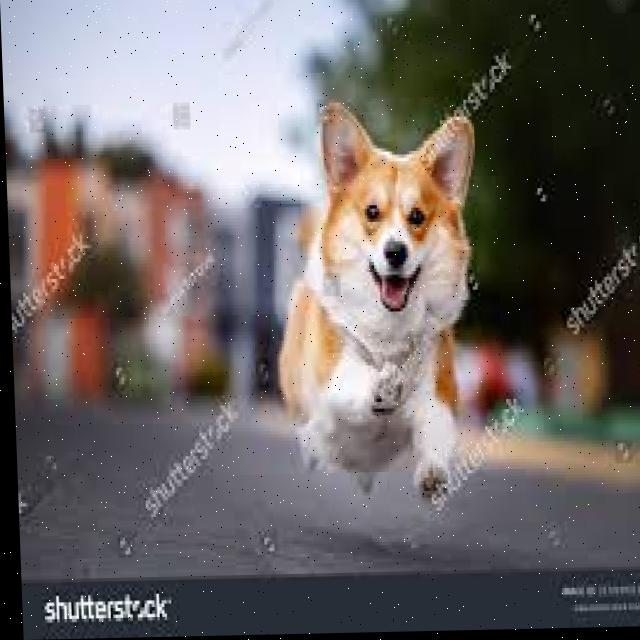CORGI: (273, 91, 479, 512)
